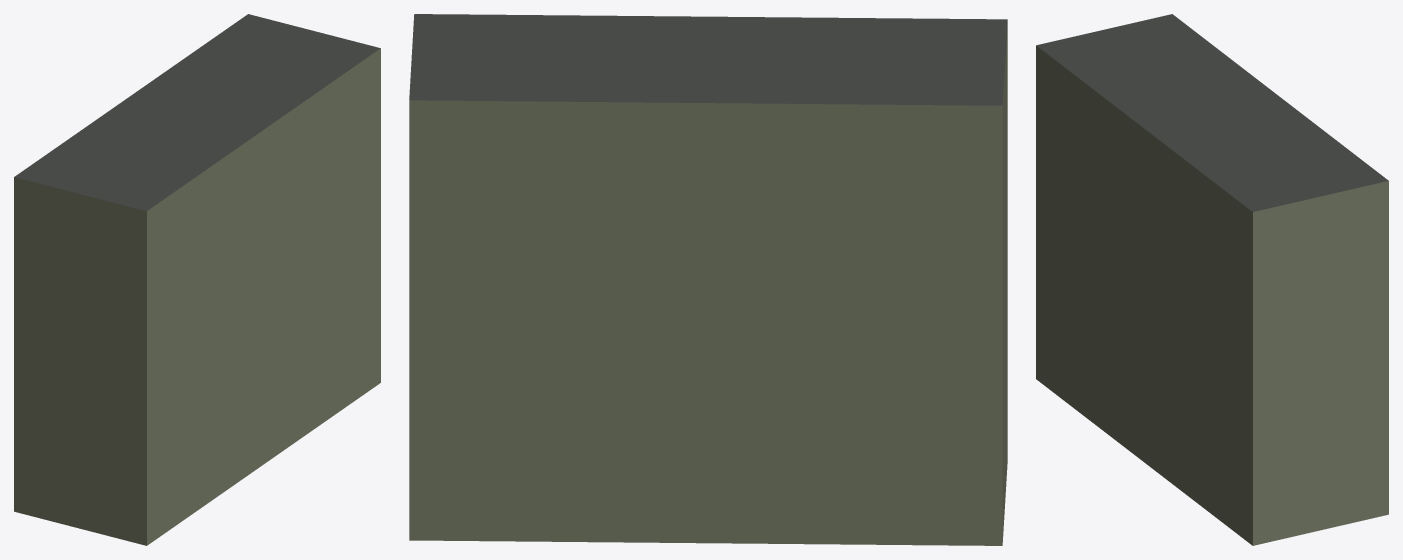
Rendered from nyc-1022559-0.glb.
3 views of the same model, side by side, from view 1: azimuth 30°, elevation 25°; view 2: azimuth 150°, elevation 25°; view 3: azimuth 270°, elevation 25° (orthographic). The views are drawn at different scales.
Parts seen in each view (by area): view 1: nyc-1022559-0; view 2: nyc-1022559-0; view 3: nyc-1022559-0.
Part boxes in pixels (<box>): nyc-1022559-0: <box>14,14,380,545</box>; nyc-1022559-0: <box>409,14,1007,545</box>; nyc-1022559-0: <box>1036,14,1388,545</box>.
Bounding box in the file's own units: 18.71 × 14.7 × 14.08.
